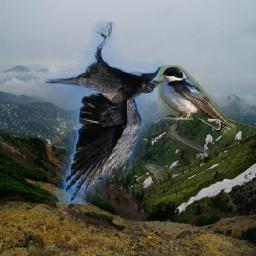Crow: (46, 22, 167, 205)
Swallow: (158, 66, 236, 137)
